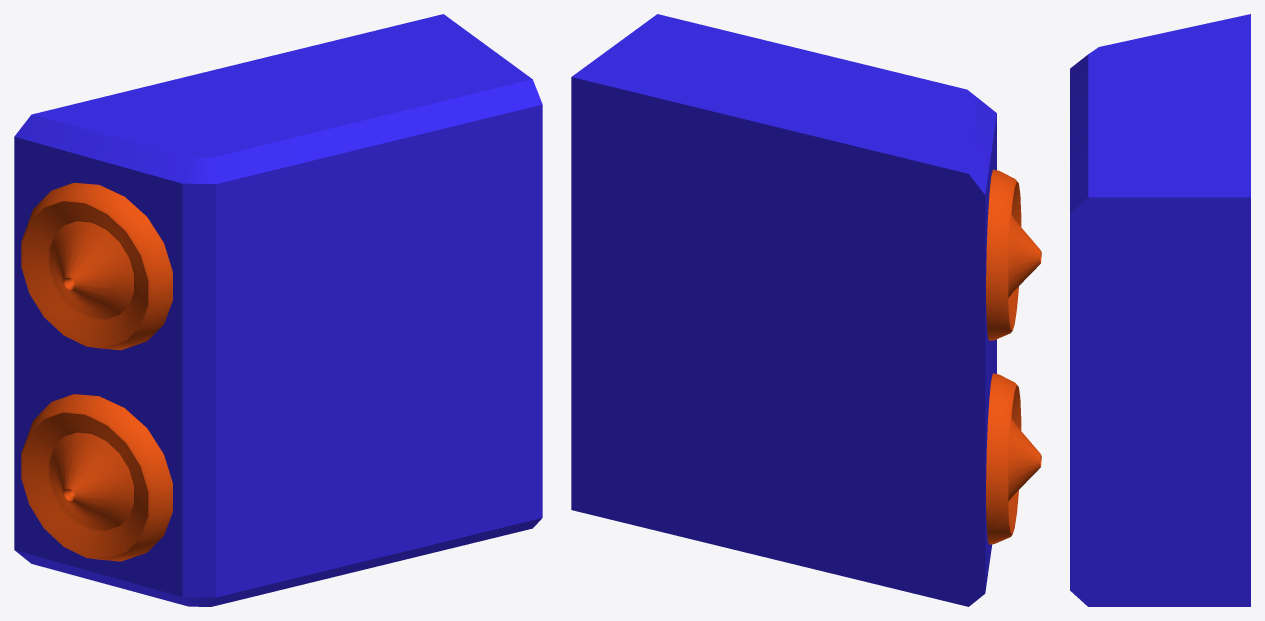
The model's file is SM_Fan_50x50.FBX.
3 views of the same model, side by side, from view 1: azimuth 30°, elevation 25°; view 2: azimuth 150°, elevation 25°; view 3: azimuth 270°, elevation 25° (orthographic). The views are drawn at different scales.
Visible parts, largest first — view 1: Fan_50x050, Cylinder003, Cylinder004; view 2: Fan_50x050, Cylinder003, Cylinder004; view 3: Fan_50x050.
Boxes of the visible parts, x1,y1,x2,y2 form: Fan_50x050: (14,14,542,606); Cylinder003: (21,394,172,561); Cylinder004: (21,182,172,350); Fan_50x050: (571,14,996,606); Cylinder003: (986,373,1041,544); Cylinder004: (986,169,1041,340); Fan_50x050: (1070,14,1250,606).
Bounding box in the file's own units: 50.93 × 20 × 50.
